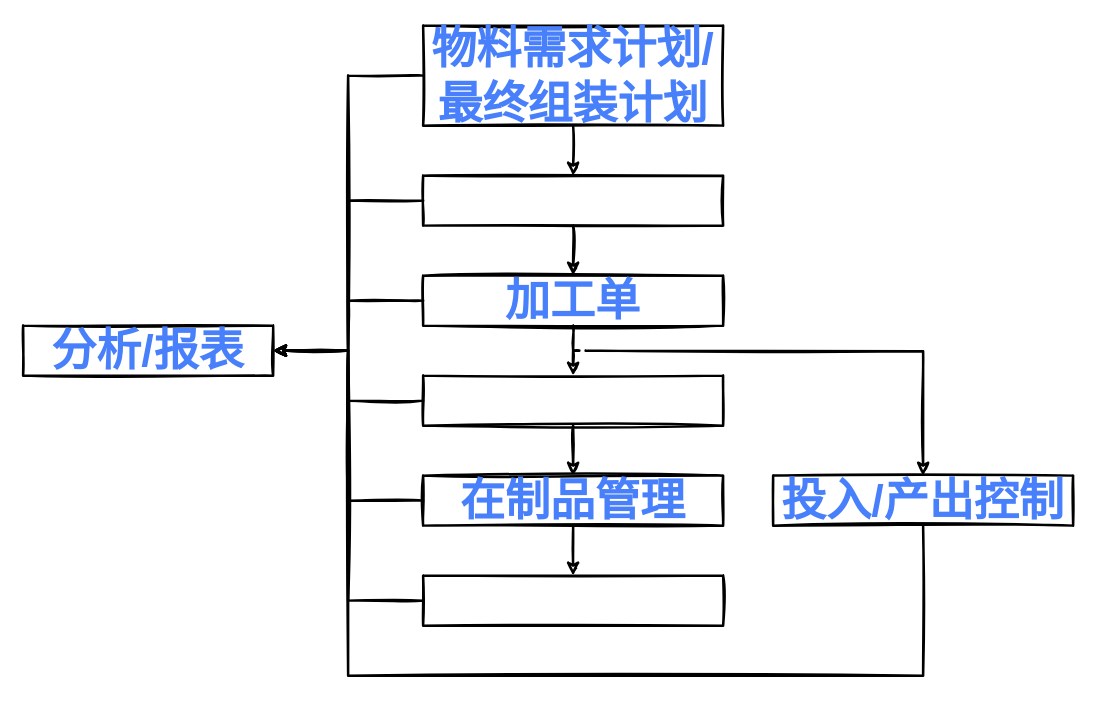
Image size: 1095x708. Some labels were removed from this diagram. The shapes that lost their labels are listed below. From the top down, each one's centre as x and y in pixels, then its label:
At point 572,200: "生产车间任务".
At point 572,400: "派工单".
At point 572,600: "完工入库".
